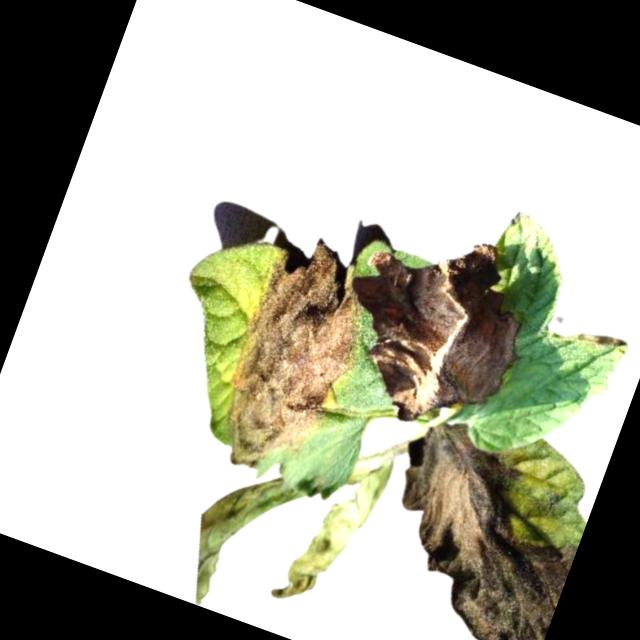Late_blight: (342, 412, 602, 640), (321, 204, 553, 453), (202, 227, 391, 493), (272, 442, 395, 620), (172, 464, 289, 621)
